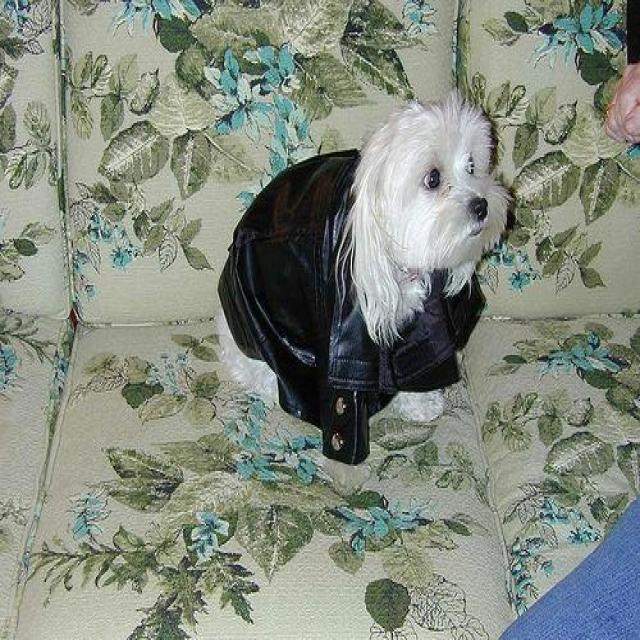maltese_dog: (212, 89, 512, 488)
